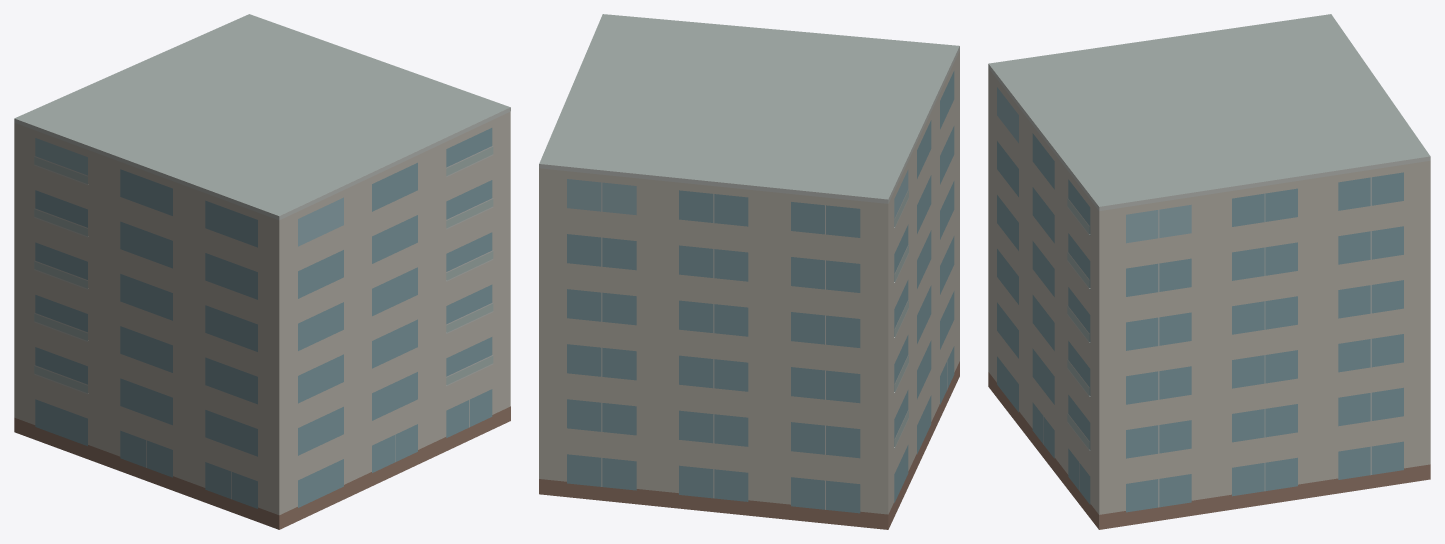
Rendered from survey-upis-32984512.glb.
3 renders of one model, left to right at view 1: azimuth 30°, elevation 25°; view 2: azimuth 150°, elevation 25°; view 3: azimuth 270°, elevation 25°, orthographic. The views are drawn at different scales.
Parts seen in each view (by area): view 1: survey-upis-32984512.tmp; view 2: survey-upis-32984512.tmp; view 3: survey-upis-32984512.tmp.
Boxes of the visible parts, x1=… form: survey-upis-32984512.tmp: x1=14, y1=14, x2=510, y2=529; survey-upis-32984512.tmp: x1=539, y1=14, x2=959, y2=529; survey-upis-32984512.tmp: x1=988, y1=14, x2=1430, y2=529.
Bounding box in the file's own units: 23.44 × 18.3 × 22.72.
